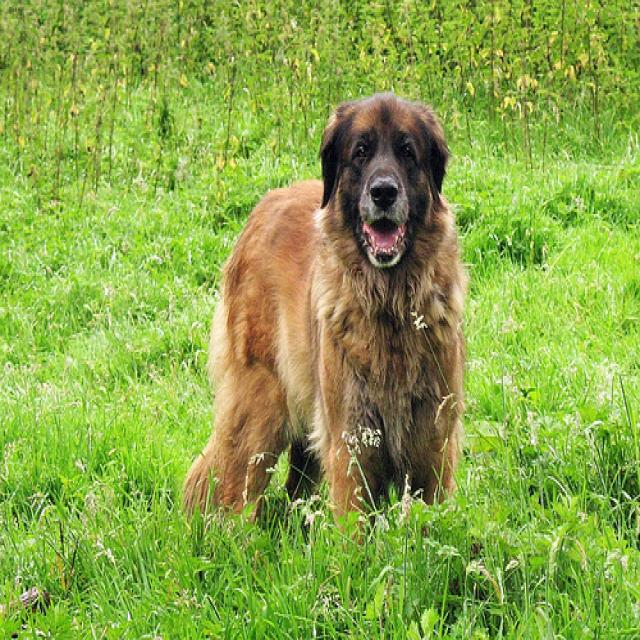dog-leonberger: (172, 81, 475, 555)
